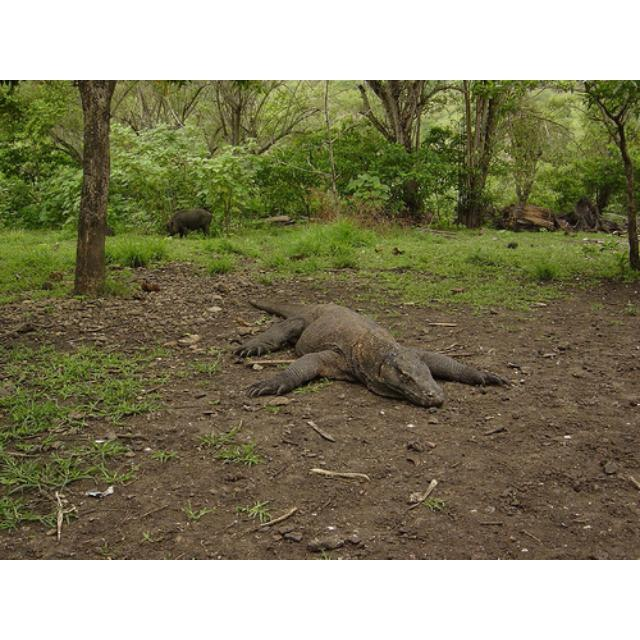KomodoDragon: (231, 291, 513, 412)
